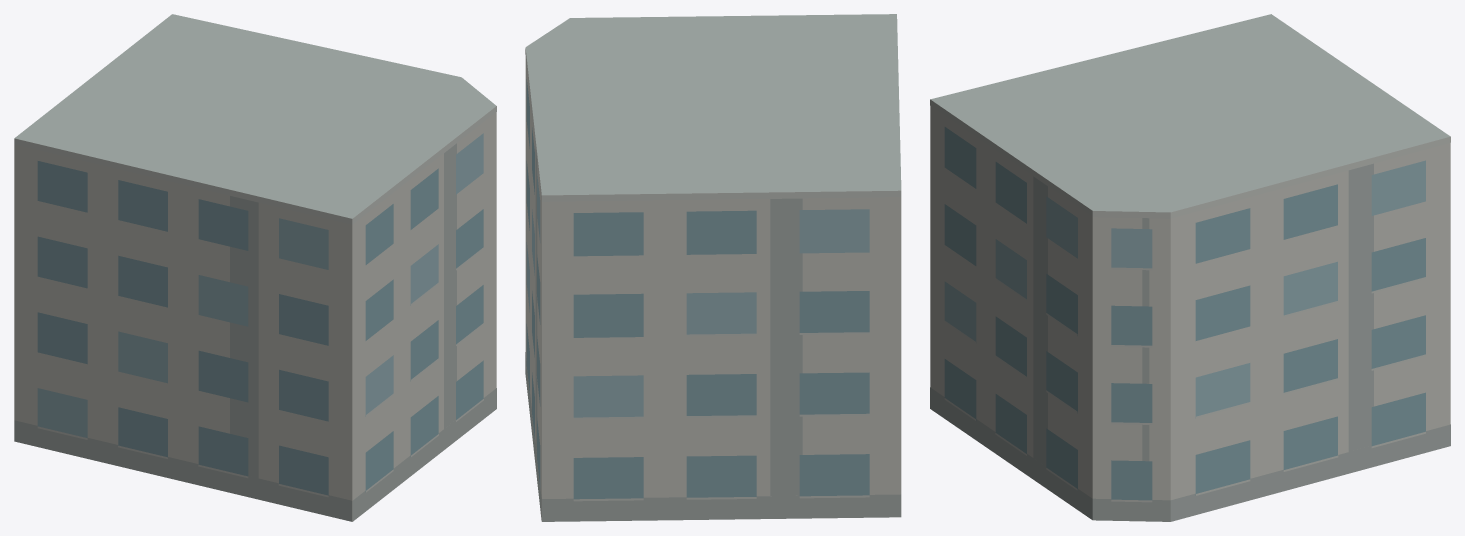
File: residential-8b93b39c-ceff-4980-b553-d2d31370a0c2.glb
3 views of the same model, side by side, from view 1: azimuth 30°, elevation 25°; view 2: azimuth 150°, elevation 25°; view 3: azimuth 270°, elevation 25° (orthographic). The views are drawn at different scales.
Parts seen in each view (by area): view 1: residential-8b93b39c-ceff-4980-b553-d2d31370a0c2.tmp; view 2: residential-8b93b39c-ceff-4980-b553-d2d31370a0c2.tmp; view 3: residential-8b93b39c-ceff-4980-b553-d2d31370a0c2.tmp.
Boxes of the visible parts, <box> form: residential-8b93b39c-ceff-4980-b553-d2d31370a0c2.tmp: <box>14,14,496,521</box>; residential-8b93b39c-ceff-4980-b553-d2d31370a0c2.tmp: <box>525,14,901,521</box>; residential-8b93b39c-ceff-4980-b553-d2d31370a0c2.tmp: <box>930,14,1450,521</box>.
Size of the model in its own units: 16.79 by 12.2 by 18.61.
